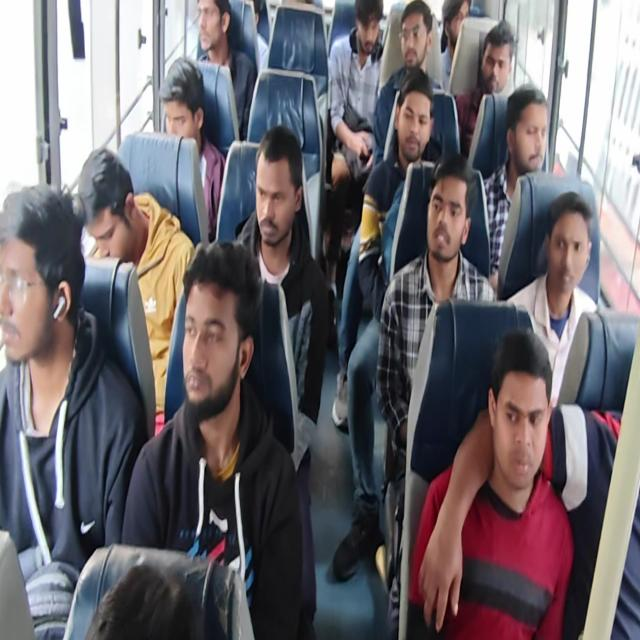person: (1, 1, 636, 638), (121, 239, 304, 638), (0, 182, 147, 638), (375, 152, 496, 635), (332, 67, 438, 581), (408, 327, 574, 638), (233, 124, 329, 635), (78, 146, 196, 436), (358, 68, 438, 320), (506, 190, 598, 408), (326, 0, 384, 301), (483, 84, 549, 288), (158, 56, 226, 241), (371, 1, 441, 168), (84, 562, 201, 639), (195, 0, 256, 138), (455, 19, 515, 156), (440, 0, 470, 93)
